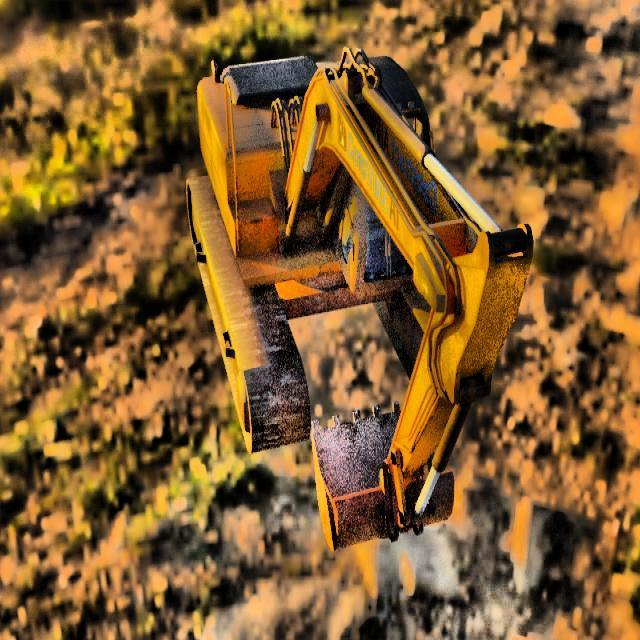excavator: (186, 47, 534, 551)
